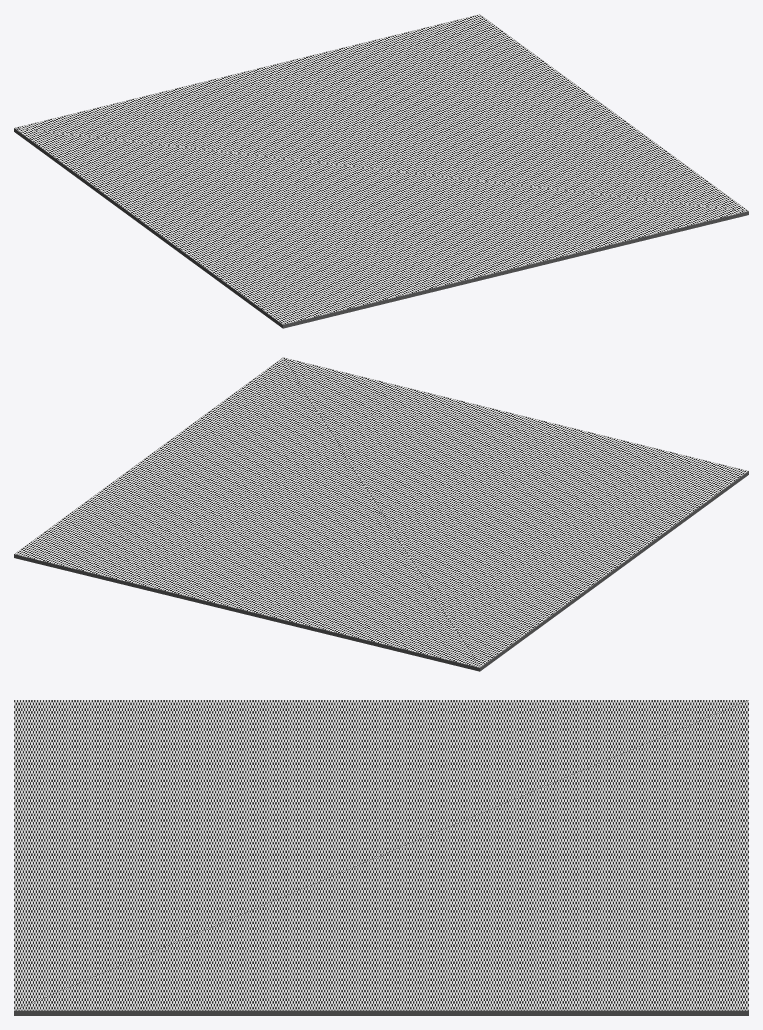
The model's file is cabelo9.gltf.
The picture shows the model from 3 angles, top to bottom: view 1: azimuth 30°, elevation 25°; view 2: azimuth 150°, elevation 25°; view 3: azimuth 270°, elevation 25°; orthographic projection. The views are drawn at different scales.
Visible parts, largest first — view 1: Texture, Baseplate; view 2: Texture, Baseplate; view 3: Texture, Baseplate.
Boxes of the visible parts, <box> form: Texture: <box>14,14,748,324</box>; Baseplate: <box>14,128,748,328</box>; Texture: <box>14,357,748,667</box>; Baseplate: <box>14,471,748,671</box>; Texture: <box>14,700,748,1010</box>; Baseplate: <box>14,1010,748,1015</box>.
Bounding box in the file's own units: 2048 × 365 × 2048.
5 materials, 2 textured.
